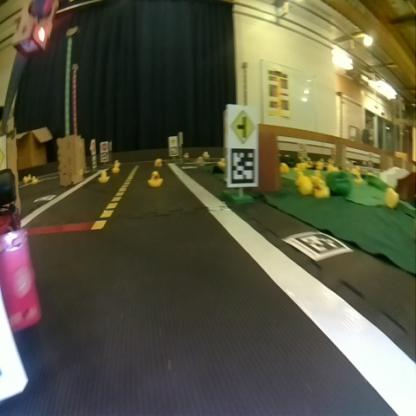Duckie: (298, 172, 312, 195), (148, 170, 162, 186), (315, 182, 329, 197), (98, 170, 109, 182), (110, 161, 120, 172), (218, 157, 225, 165), (31, 176, 37, 184), (202, 150, 208, 158), (155, 160, 162, 166)
Intersection sign: (228, 105, 257, 144)
QR code: (283, 230, 353, 259), (227, 146, 257, 186)
Traffic light: (15, 0, 57, 55)
